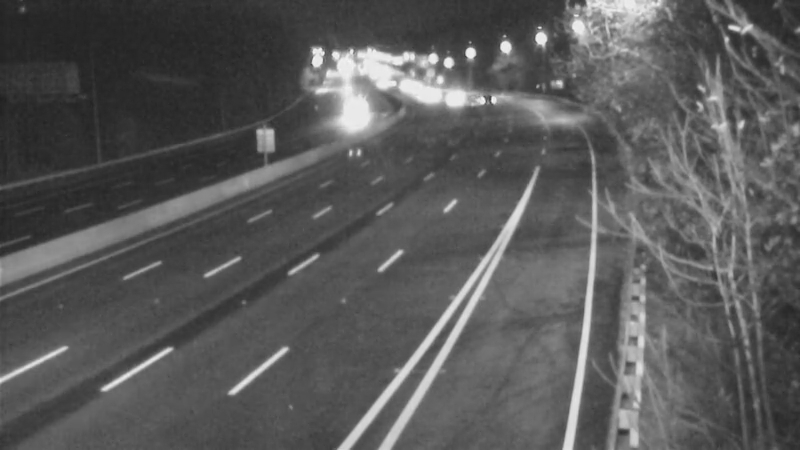vehicle: (463, 70, 513, 120), (428, 70, 478, 120), (399, 69, 449, 119), (327, 80, 377, 130)
